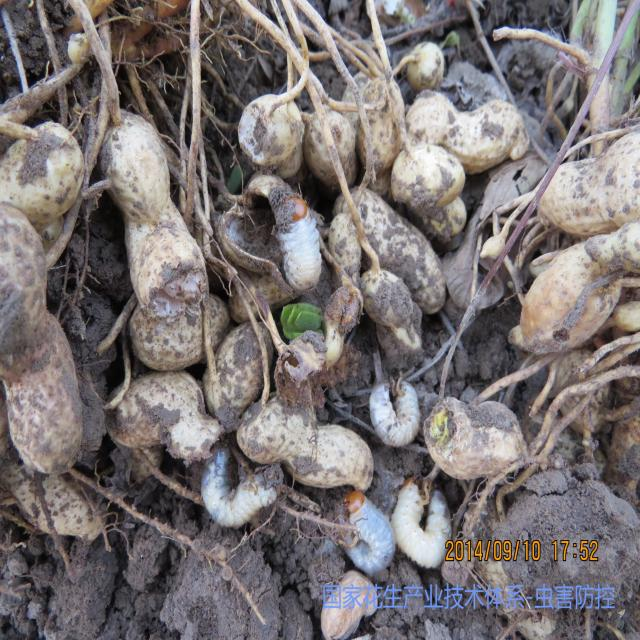Grub-Adult-: (189, 426, 284, 530), (387, 460, 470, 578), (271, 184, 332, 302), (355, 361, 431, 450), (333, 486, 395, 579)
